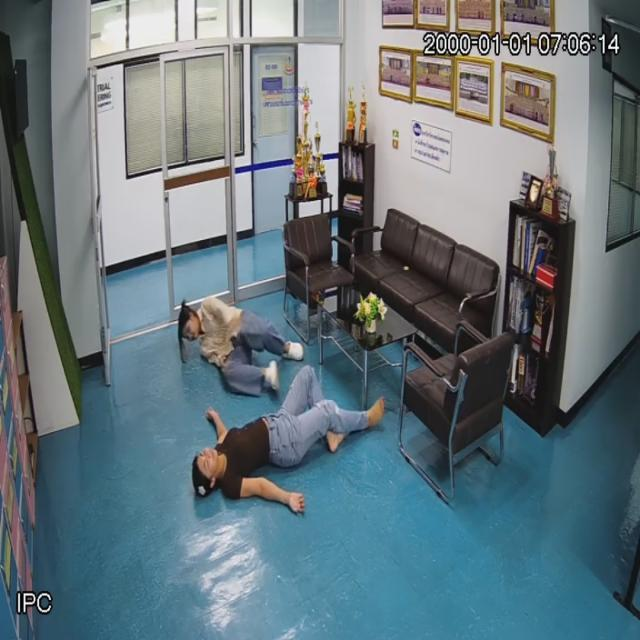fall: (185, 381, 386, 506), (172, 290, 303, 400)
